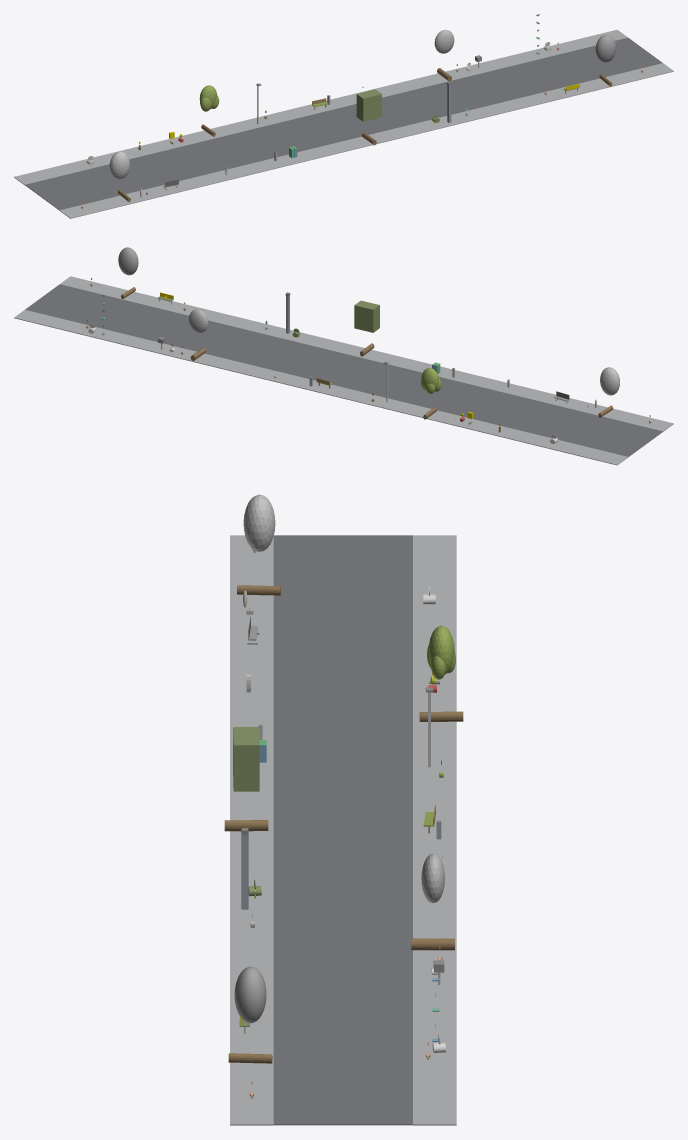
3 renders of one model, top to bottom at view 1: azimuth 30°, elevation 25°; view 2: azimuth 150°, elevation 25°; view 3: azimuth 270°, elevation 25°, orthographic. The views are drawn at different scales.
Parts seen in each view (by area): view 1: road_slab, sidewalk_left, sidewalk_right, inst_0014, inst_0012, inst_0016, inst_0013, inst_0015; view 2: road_slab, sidewalk_right, sidewalk_left, inst_0014, inst_0016, inst_0012, inst_0013, inst_0015; view 3: road_slab, sidewalk_right, sidewalk_left, inst_0014, inst_0016, inst_0012, inst_0013, inst_0015.
Part boxes in pixels (x1=…): road_slab: x1=25, y1=37, x2=662, y2=210; sidewalk_left: x1=59, y1=63, x2=673, y2=218; sidewalk_right: x1=14, y1=29, x2=627, y2=185; inst_0014: x1=356, y1=89, x2=381, y2=145; inst_0012: x1=109, y1=151, x2=130, y2=201; inst_0016: x1=595, y1=35, x2=616, y2=86; inst_0013: x1=199, y1=85, x2=219, y2=136; inst_0015: x1=434, y1=29, x2=454, y2=81; road_slab: x1=25, y1=284, x2=662, y2=456; sidewalk_right: x1=14, y1=310, x2=628, y2=465; sidewalk_left: x1=60, y1=276, x2=673, y2=431; inst_0014: x1=354, y1=300, x2=379, y2=356; inst_0016: x1=118, y1=247, x2=138, y2=299; inst_0012: x1=598, y1=367, x2=619, y2=417; inst_0013: x1=421, y1=368, x2=441, y2=419; inst_0015: x1=188, y1=309, x2=208, y2=360; road_slab: x1=273, y1=535, x2=412, y2=1125; sidewalk_right: x1=413, y1=535, x2=456, y2=1125; sidewalk_left: x1=230, y1=535, x2=273, y2=1125; inst_0014: x1=224, y1=727, x2=268, y2=831; inst_0016: x1=228, y1=966, x2=272, y2=1063; inst_0012: x1=237, y1=494, x2=280, y2=595; inst_0013: x1=419, y1=625, x2=463, y2=721; inst_0015: x1=411, y1=853, x2=454, y2=950.
Bounding box in the file's own units: 80 × 6.08 × 13.71.
